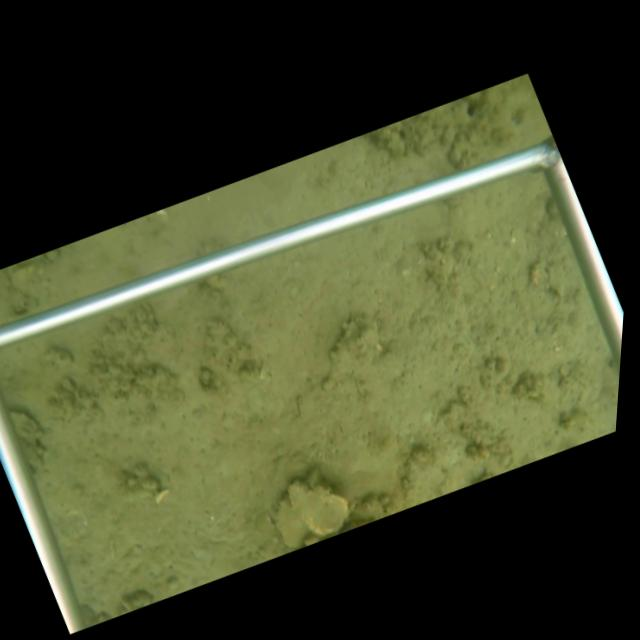Oyster-Indeterminate: (286, 479, 348, 537), (273, 494, 310, 548)
